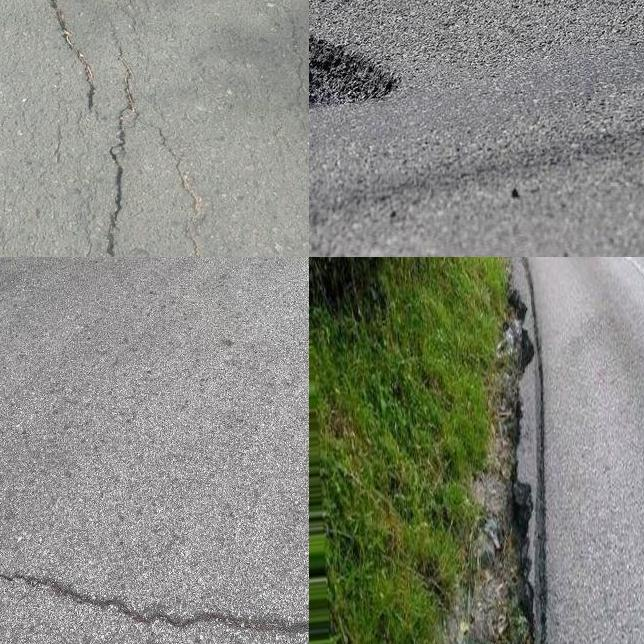Lubang: (309, 44, 396, 114)
Melintang: (0, 559, 309, 644)
Pinggir: (445, 257, 600, 644)
